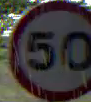Speed limit: (9, 1, 90, 101)
